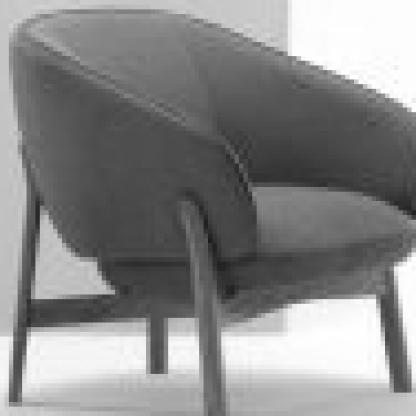chair: (4, 4, 415, 416)
